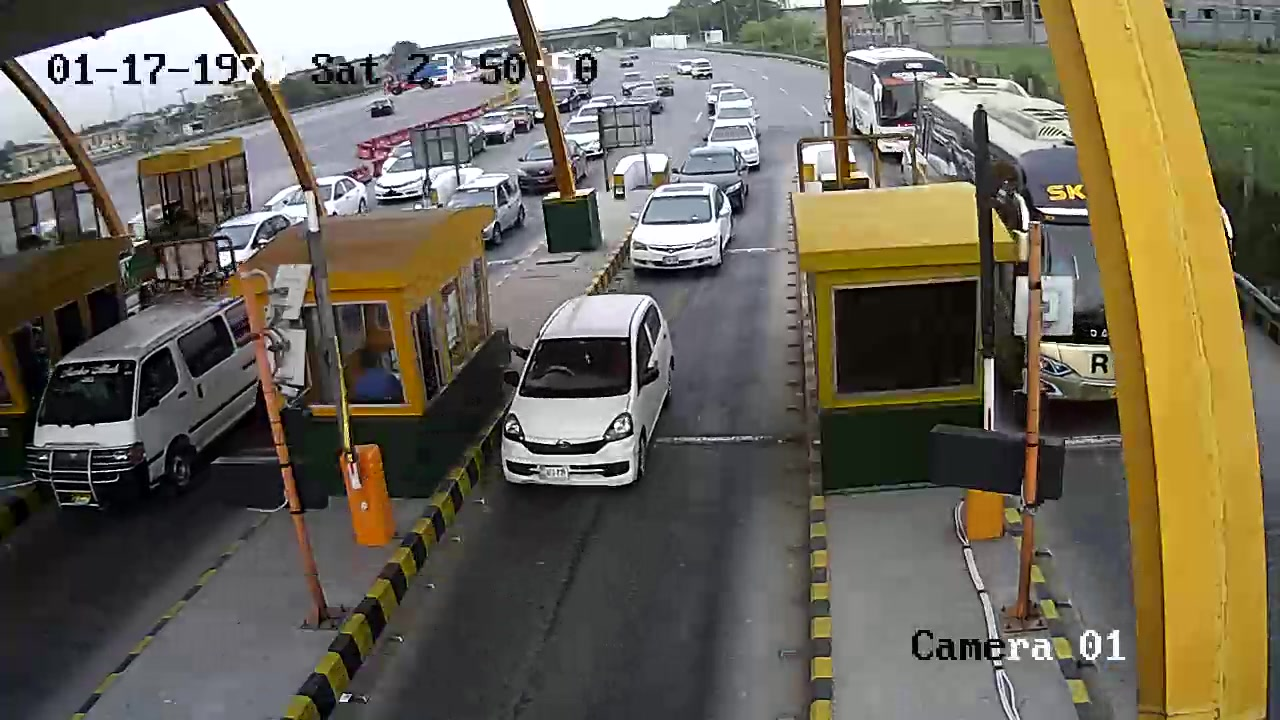F1: (483, 297, 701, 498)
